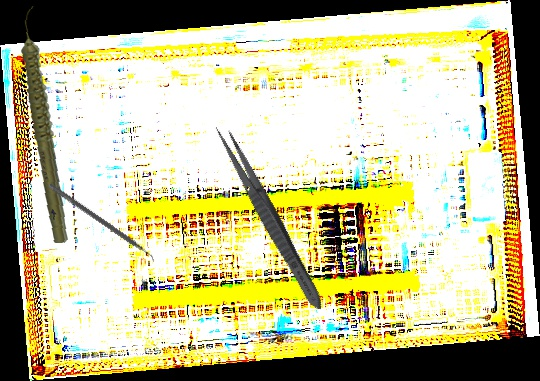Dressing Forceps: (209, 120, 330, 315)
Handpiece: (3, 5, 89, 244)
Spatula Surgical: (44, 182, 159, 265)
